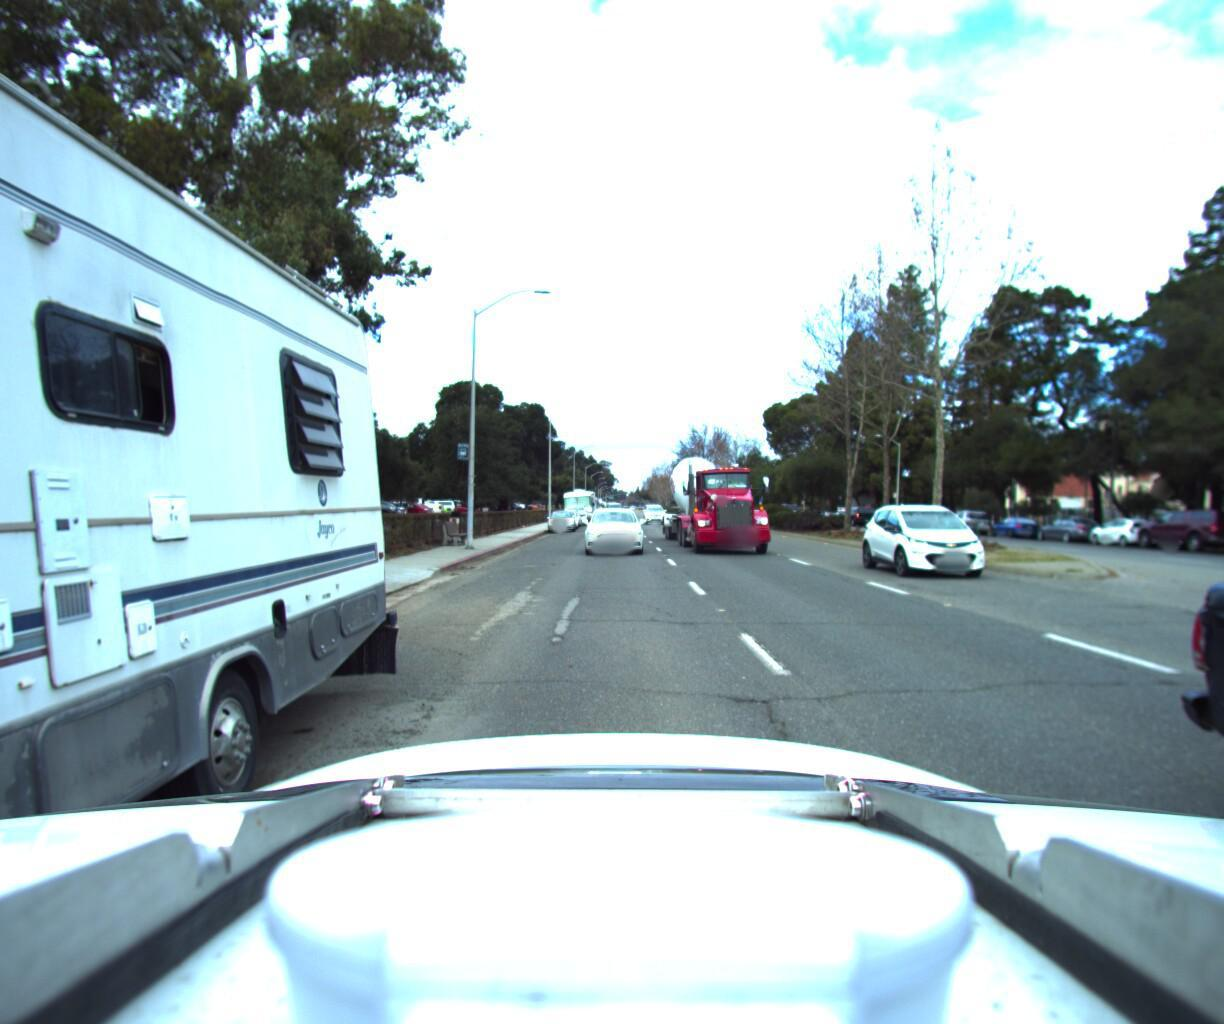car: (876, 495, 1041, 583), (1130, 500, 1224, 550), (583, 499, 648, 553), (1083, 509, 1166, 542), (1032, 508, 1110, 538), (987, 508, 1045, 533), (941, 502, 993, 529), (837, 497, 872, 518), (547, 502, 575, 527), (641, 500, 667, 523), (562, 497, 588, 520)
other_vehicle: (560, 480, 597, 518)
truck: (667, 420, 791, 557)
